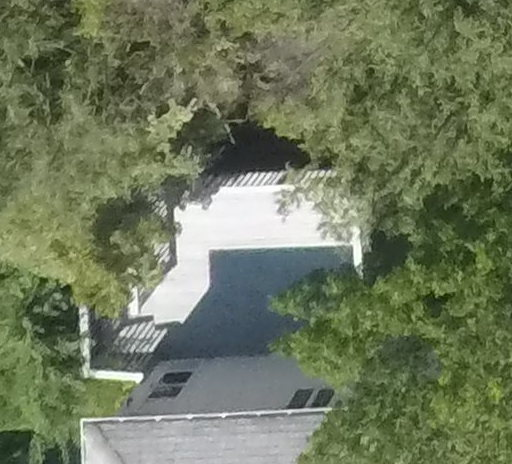porch: (52, 135, 399, 409)
